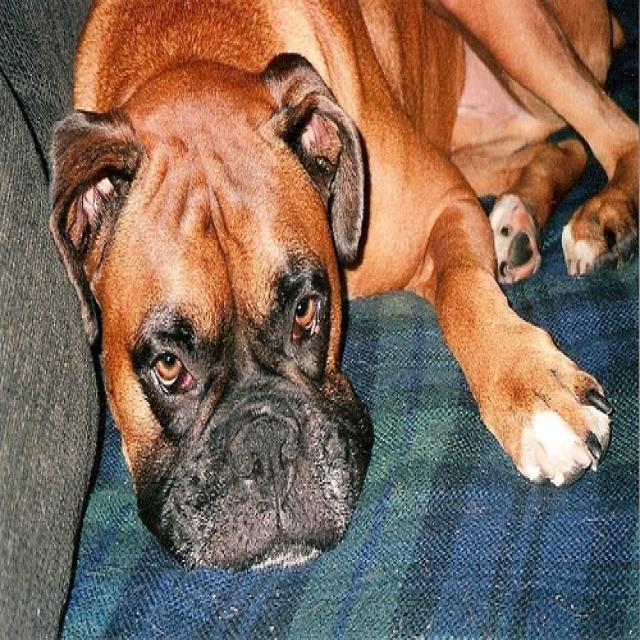dog-boxer: (40, 2, 637, 572)
